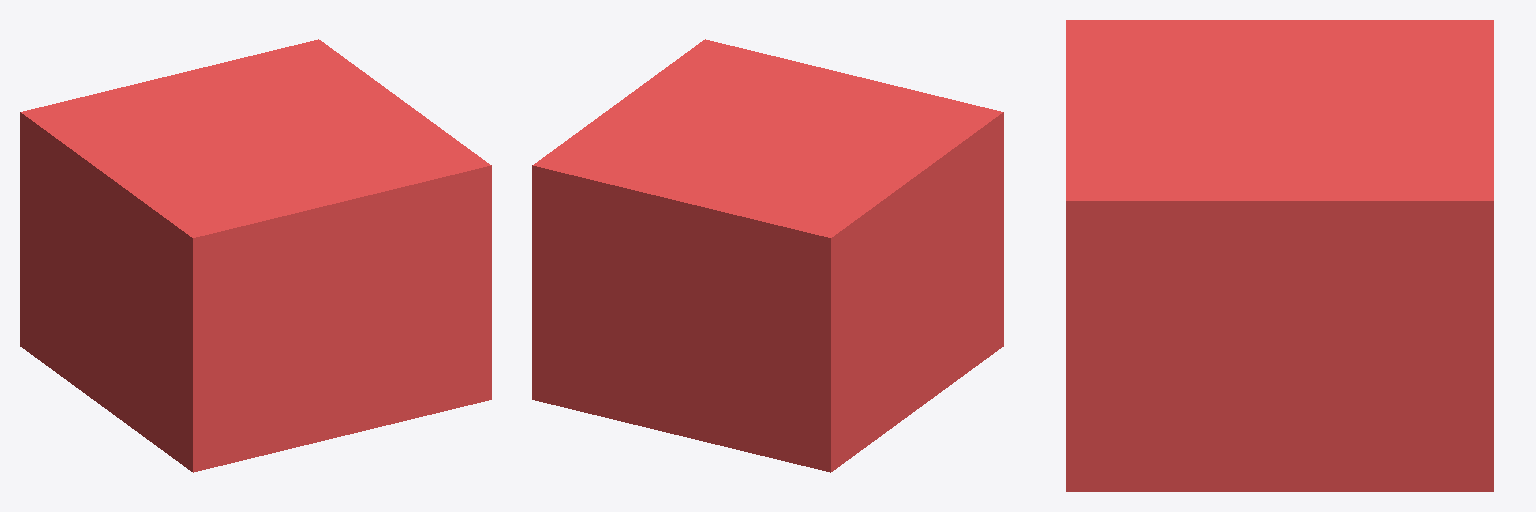
robot.urdf — environment:
<?xml version="1.0"?>
<robot name="environment">
  <material name="White">
    <color rgba="0.9 0.9 0.9 1"/>
  </material>
  <material name="Blue">
    <color rgba="0 0 1 1"/>
  </material>
  <material name="Red">
    <color rgba="1 0.4 0.4 1"/>
  </material>
  <material name="Green">
    <color rgba="0 1 0 1"/>
  </material>
  <material name="Gray">
    <color rgba="0.6 0.6 0.6 1"/>
  </material>
  <material name="Black"><!-- or brown-->
    <color rgba="0.2 0.1 0.1 1"/>
  </material>

  <link name="obstacle_base">
    <inertial>
      <origin xyz="0 0 0" rpy="0 0 0"/>
      <mass value="1.0" />
      <inertia  ixx="1.0" ixy="0.0"  ixz="0.0"  iyy="1.0"  iyz="0.0"  izz="1.0" />
    </inertial>
    <visual>
      <origin xyz="0 0 -0.1" rpy="0 0 0"/>
      <geometry>
        <box size="0.1 0.1 0.1"/>
      </geometry>
      <material name="White"/>
    </visual>
  </link>

  <joint name="j_one" type="fixed">
    <parent link="obstacle_base"/>
    <child link="l_one"/>
    <origin rpy="0 0 0" xyz="0 0 0"/>
  </joint>

  <link name="l_one">
    <inertial>
      <origin xyz="0 0 0" /> 
      <mass value="1.0" />
      <inertia  ixx="1.0" ixy="0.0"  ixz="0.0"  iyy="1.0"  iyz="0.0"  izz="1.0" />
    </inertial>
    <visual>
      <origin xyz="0 0 0"/>
      <geometry>
        <mesh filename="package://animals_description/meshes/plane_3d.stl"/>
        <!--<box size="8 8 6" />-->
      </geometry>
      <material name="Red"/>
    </visual>
    <collision>
      <origin xyz="0 0 0"/>
      <geometry>
        <mesh filename="package://animals_description/meshes/plane_3d.stl"/>
      </geometry>
    </collision>
  </link>
</robot>

--- What the picture shows (computed from the rendered views, not written in the file) ---
The picture shows the robot from 3 angles, left to right: view 1: azimuth 30°, elevation 25°; view 2: azimuth 150°, elevation 25°; view 3: azimuth 270°, elevation 25°; orthographic projection.
Robot: environment — 2 links, 1 joints (1 fixed); root link obstacle_base; default pose: every joint at zero.
Links seen in each view (by area): view 1: l_one; view 2: l_one; view 3: l_one.
Boxes of the visible links, left/top/right/bottom form: l_one: left=20, top=39, right=491, bottom=472; l_one: left=532, top=39, right=1003, bottom=472; l_one: left=1066, top=20, right=1493, bottom=491.
Bounding box of the posed robot: 8 × 8 × 6 m (x, y, z).
Meshes: 1 distinct files referenced, 1 mesh visuals loaded (1 binary STL).